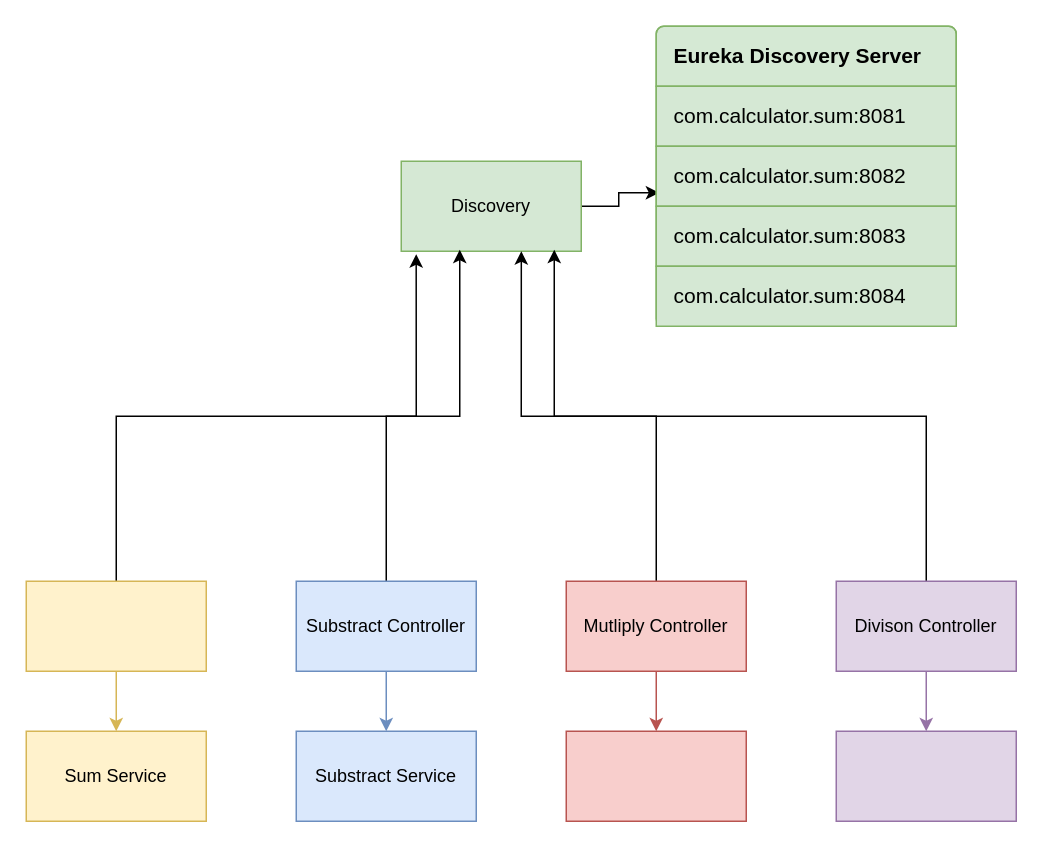
Image size: 1043x848. Some labels were removed from this diagram. Each missing label, with the centre of its shape:
Division Service: the point at 925,775
Mutliply Service: the point at 655,775
Sum Controller: the point at 115,625
